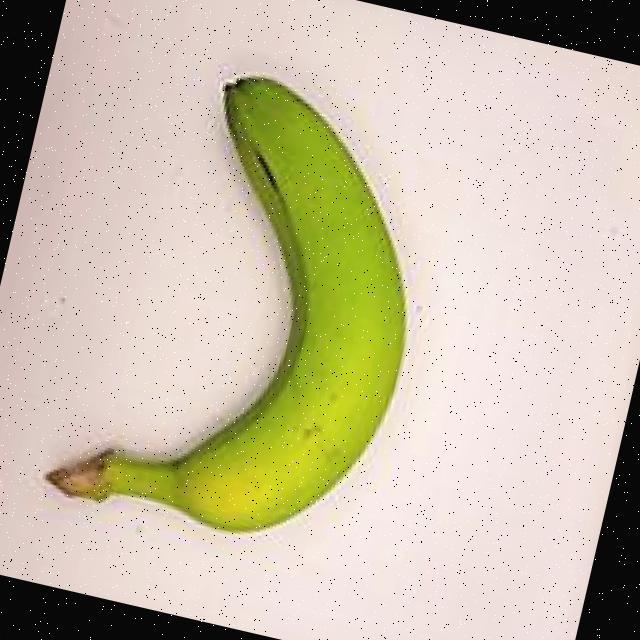Unripe: (0, 17, 520, 620)
